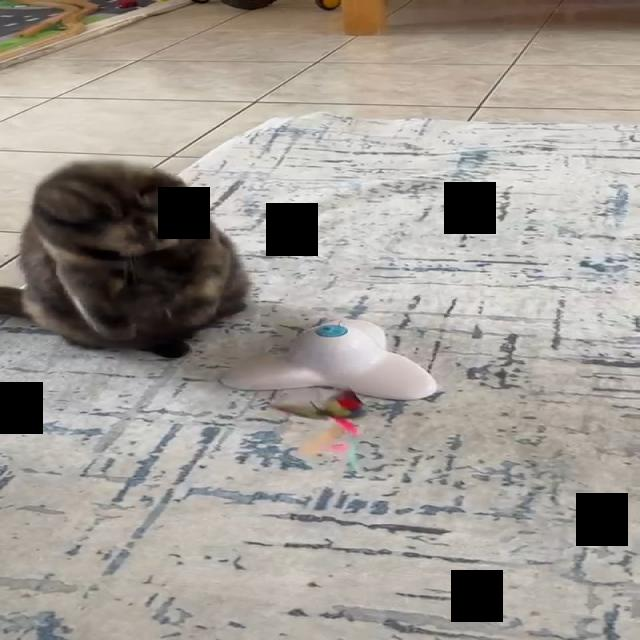authorized: (0, 160, 251, 358)
